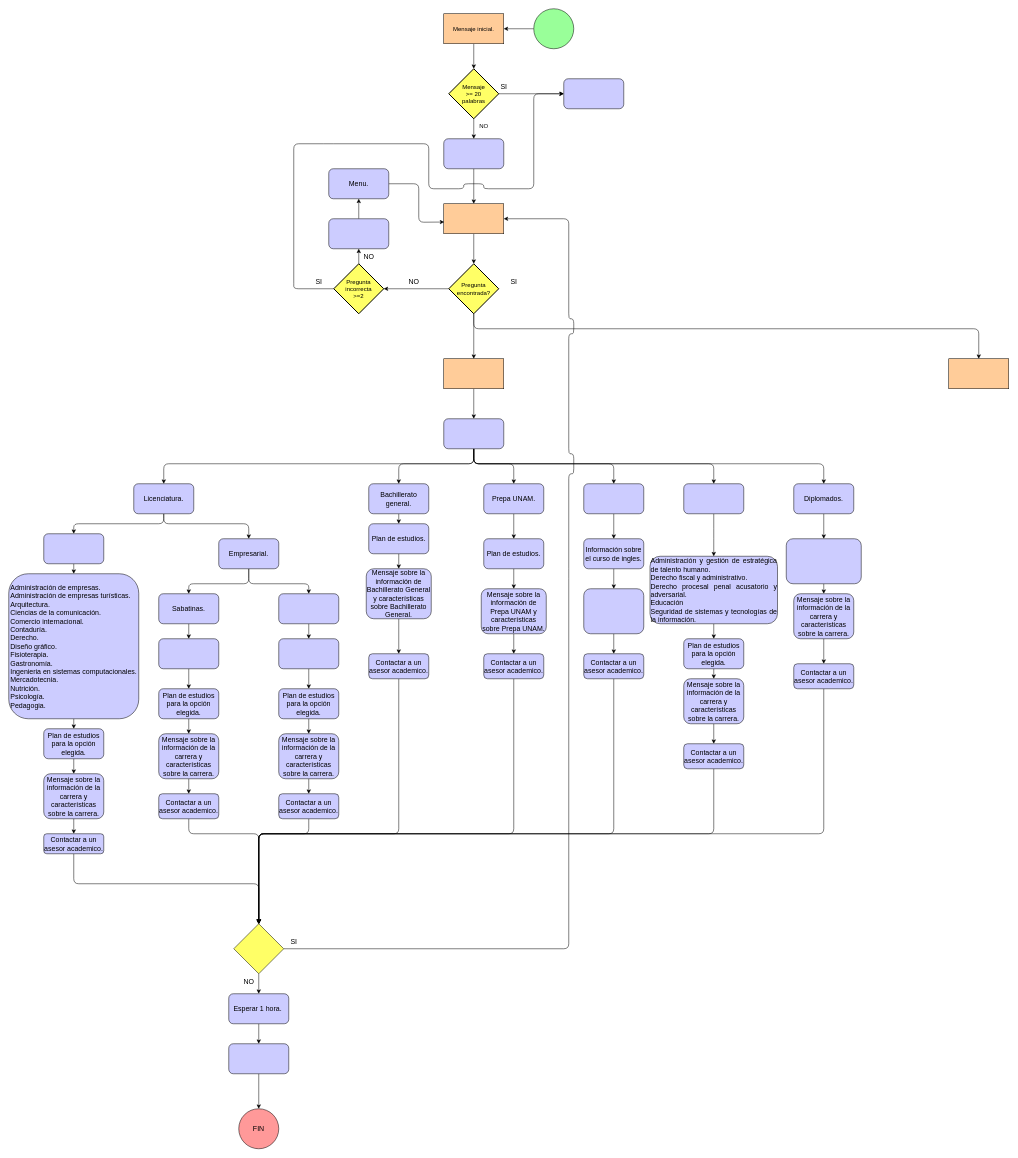
This 1018x1158 diagram has some shape labels left out. Each missing label, with the centre of its shape:
Bienvenida.: point (473, 153)
Contactar a un asesor.: point (593, 93)
Contaduría. Pedagogía.: point (308, 653)
Cursos.: point (613, 498)
Derecho. Administración de empresas.: point (188, 653)
INICIO: point (553, 28)
Linea: point (308, 608)
Maestrias.: point (713, 498)
Mensaje de seguimiento.: point (258, 1058)
Mensaje sobre la información del curso de ingles y características.: point (613, 611)
Neuromarketing Sabor y salud Habilidades gerenciales.: point (823, 561)
Oferta academica.: point (473, 373)
Oferta educativa general.: point (473, 433)
Pregunta incorrecta +1: point (358, 233)
Pregunta.: point (473, 218)
Preguntas frecuentes.: point (978, 373)
Presencial.: point (73, 548)
Respondio el usuario?: point (258, 948)
